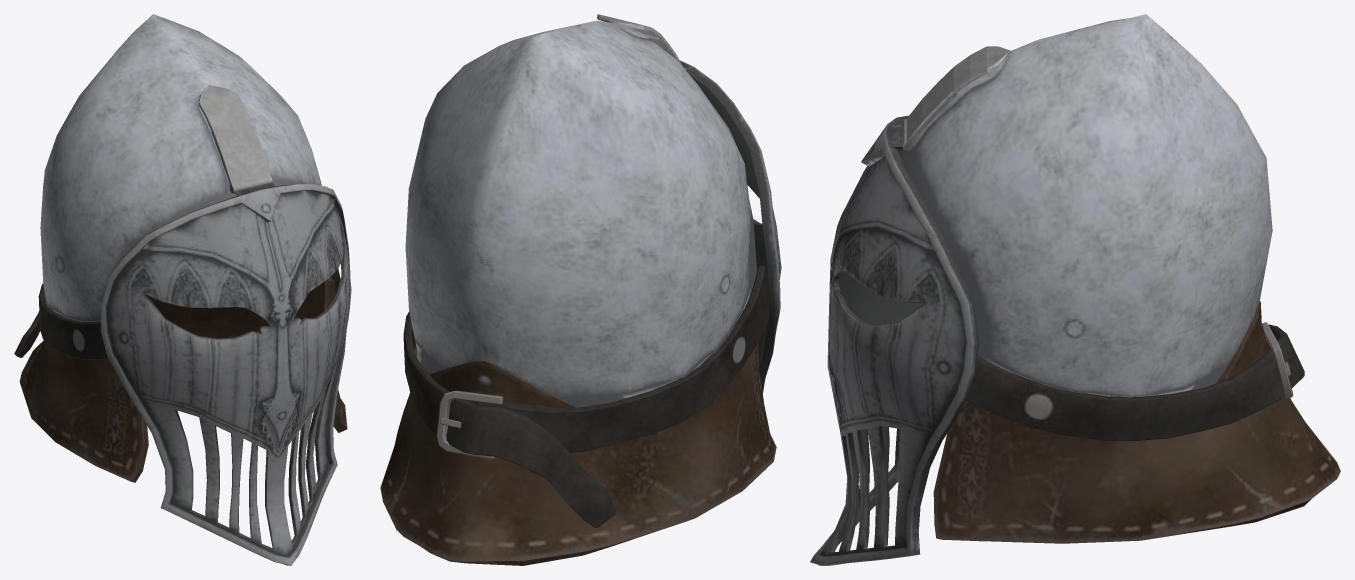
File: gothic-bascinet.glb
The picture shows the model from 3 angles, left to right: view 1: azimuth 30°, elevation 25°; view 2: azimuth 150°, elevation 25°; view 3: azimuth 270°, elevation 25°; orthographic projection. The views are drawn at different scales.
Visible parts, largest first — view 1: PIECE_gothic-bascinet; view 2: PIECE_gothic-bascinet; view 3: PIECE_gothic-bascinet.
Part boxes in pixels (left/top/right/bottom): PIECE_gothic-bascinet: left=14, top=14, right=351, bottom=565; PIECE_gothic-bascinet: left=380, top=14, right=781, bottom=565; PIECE_gothic-bascinet: left=810, top=14, right=1340, bottom=565.
Size of the model in its own units: 1 by 1.64 by 1.43.
1 material, 1 textured.
